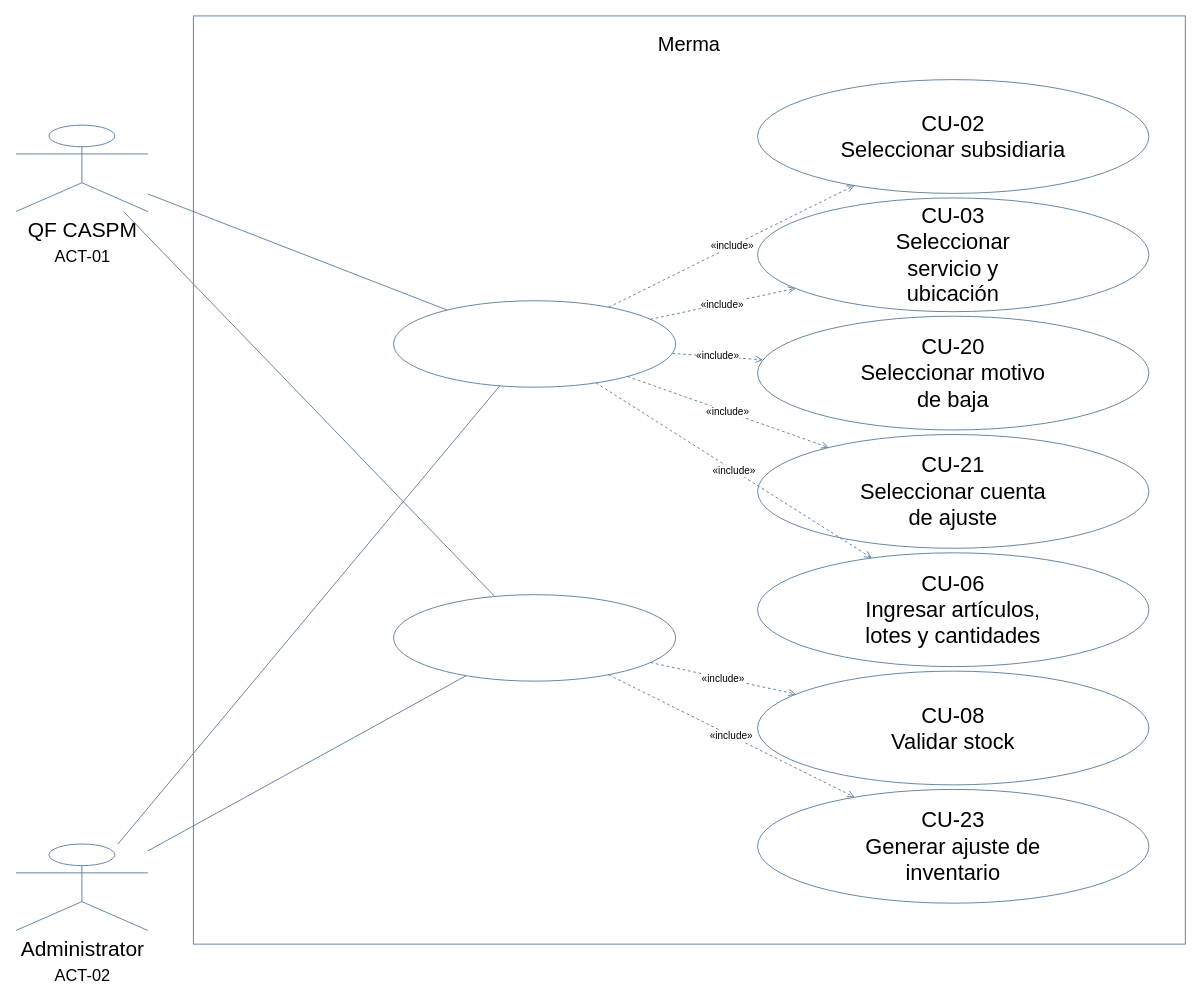
The diagram is 1201 pixels wide and 1003 high, and some of its shapes have lost their labels. The shapes that lost their labels are listed below. From the top down, each one's box as (x1, y1, x2, y2) in pixels, then its label:
(393, 300, 676, 387): CU-19 Registrar merma
(393, 594, 676, 681): CU-22 Procesar merma
